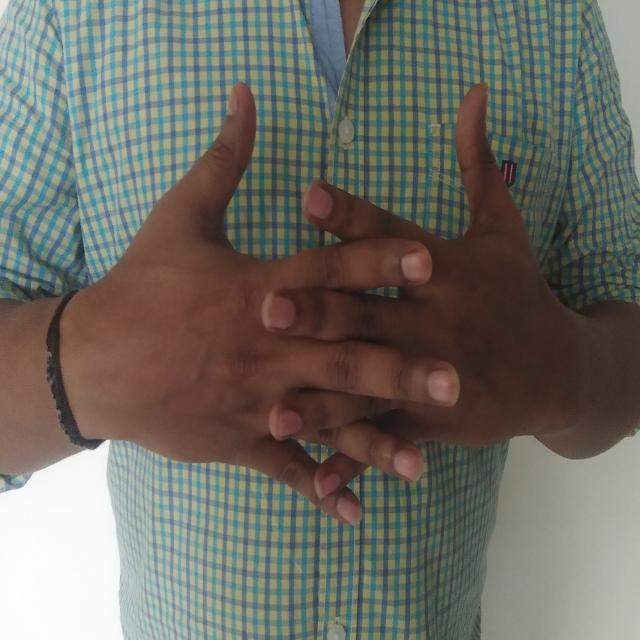W: (158, 71, 533, 531)
